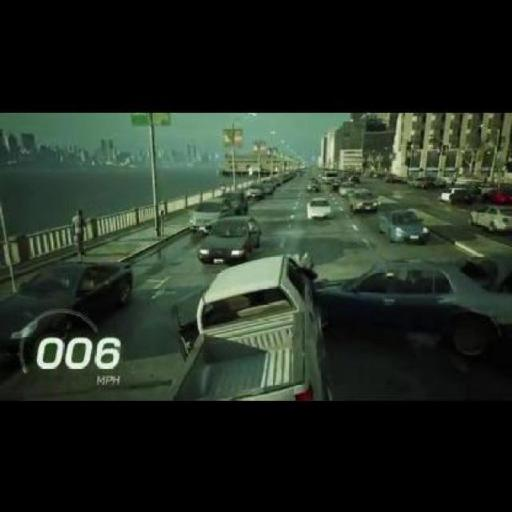小汽车: (0, 259, 134, 355), (198, 214, 262, 263), (378, 204, 430, 245), (189, 193, 228, 233), (468, 199, 512, 234), (347, 186, 383, 216), (305, 198, 337, 223), (242, 182, 267, 200)
小汽车撞小汽车: (172, 256, 507, 398)
